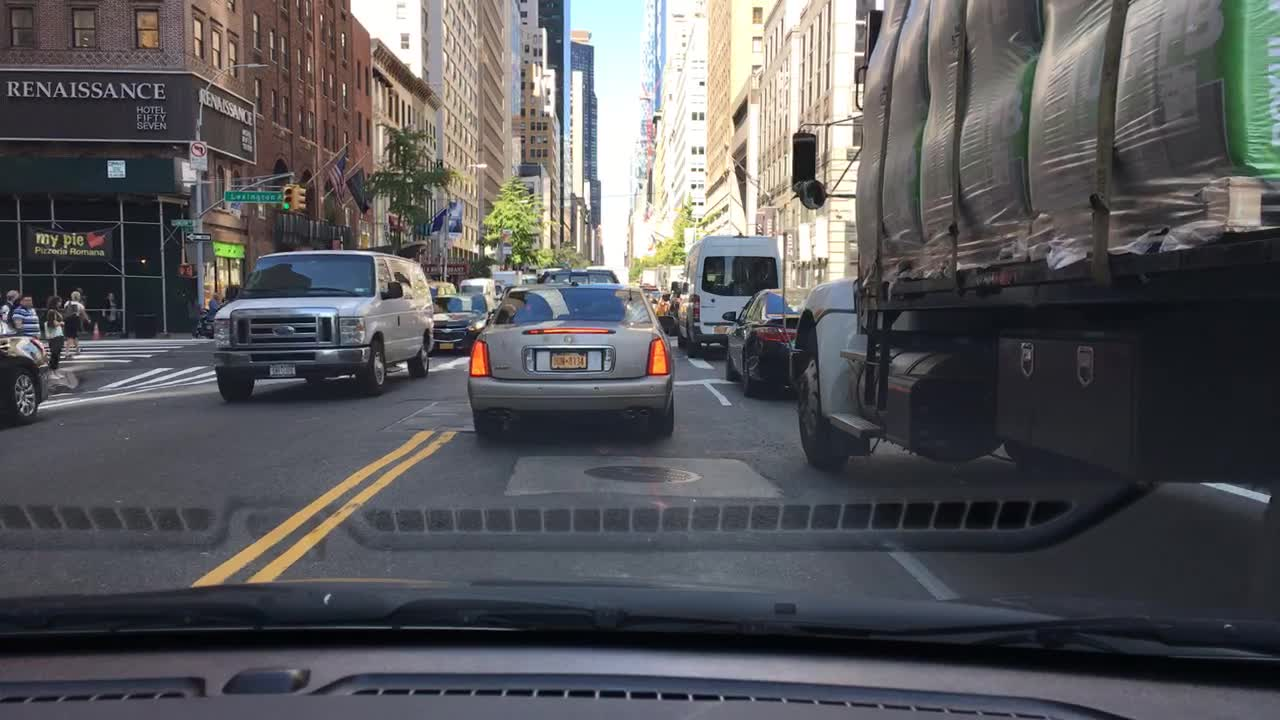bus: (675, 235, 781, 359), (538, 267, 618, 285)
car: (210, 247, 430, 400), (466, 280, 676, 439), (723, 281, 821, 395), (0, 333, 43, 428), (428, 295, 495, 350), (658, 282, 690, 332), (649, 284, 676, 305), (425, 279, 453, 296)
motor: (192, 308, 220, 339)
person: (43, 295, 63, 382), (60, 291, 84, 357), (17, 295, 39, 337), (100, 291, 121, 334), (0, 287, 17, 331), (73, 287, 88, 334), (209, 292, 219, 312)
traffic light: (281, 184, 293, 210), (295, 185, 306, 210), (176, 262, 192, 276)
traffic sign: (225, 191, 281, 204), (191, 139, 206, 171), (183, 232, 213, 242), (173, 219, 198, 228)
truck: (785, 3, 1278, 555), (490, 271, 521, 293), (459, 276, 494, 295), (639, 267, 658, 287)
